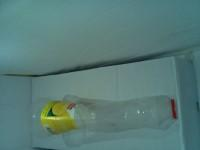bottle: (96, 0, 109, 33)
